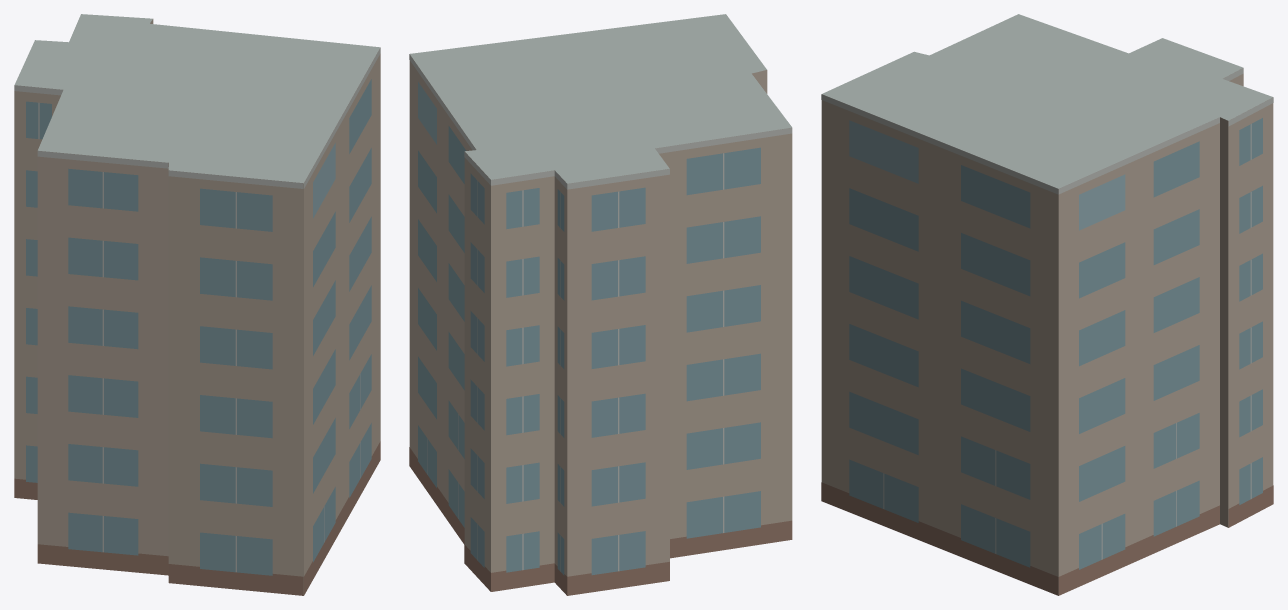
Rendered from survey-upis-33032924.glb.
The picture shows the model from 3 angles, left to right: view 1: azimuth 30°, elevation 25°; view 2: azimuth 150°, elevation 25°; view 3: azimuth 270°, elevation 25°; orthographic projection.
Parts seen in each view (by area): view 1: survey-upis-33032924.tmp; view 2: survey-upis-33032924.tmp; view 3: survey-upis-33032924.tmp.
Boxes of the visible parts, <box> form: survey-upis-33032924.tmp: <box>14,14,380,595</box>; survey-upis-33032924.tmp: <box>409,14,792,595</box>; survey-upis-33032924.tmp: <box>821,14,1273,595</box>.
Size of the model in its own units: 15.76 by 17.1 by 17.21.
